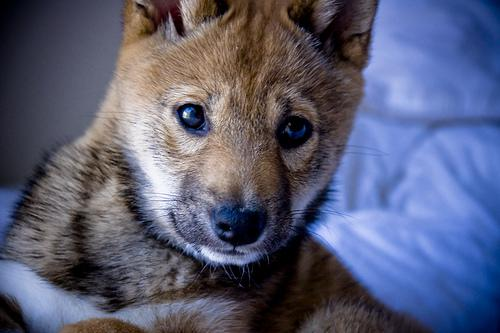dog-shiba_inu: (115, 0, 377, 264)
